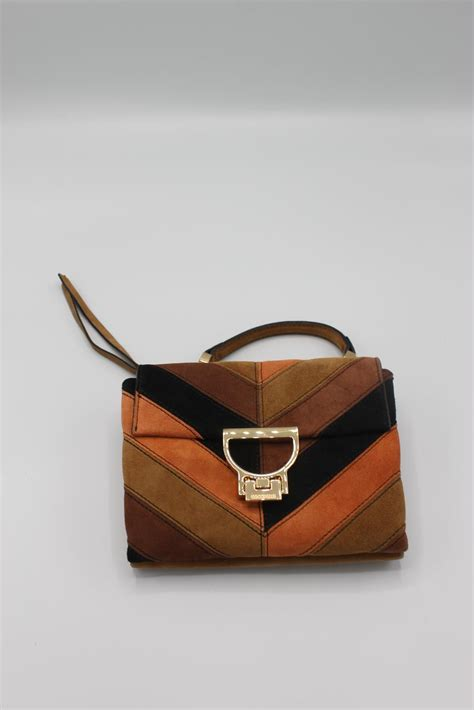gamuza: (121, 356, 408, 567)
